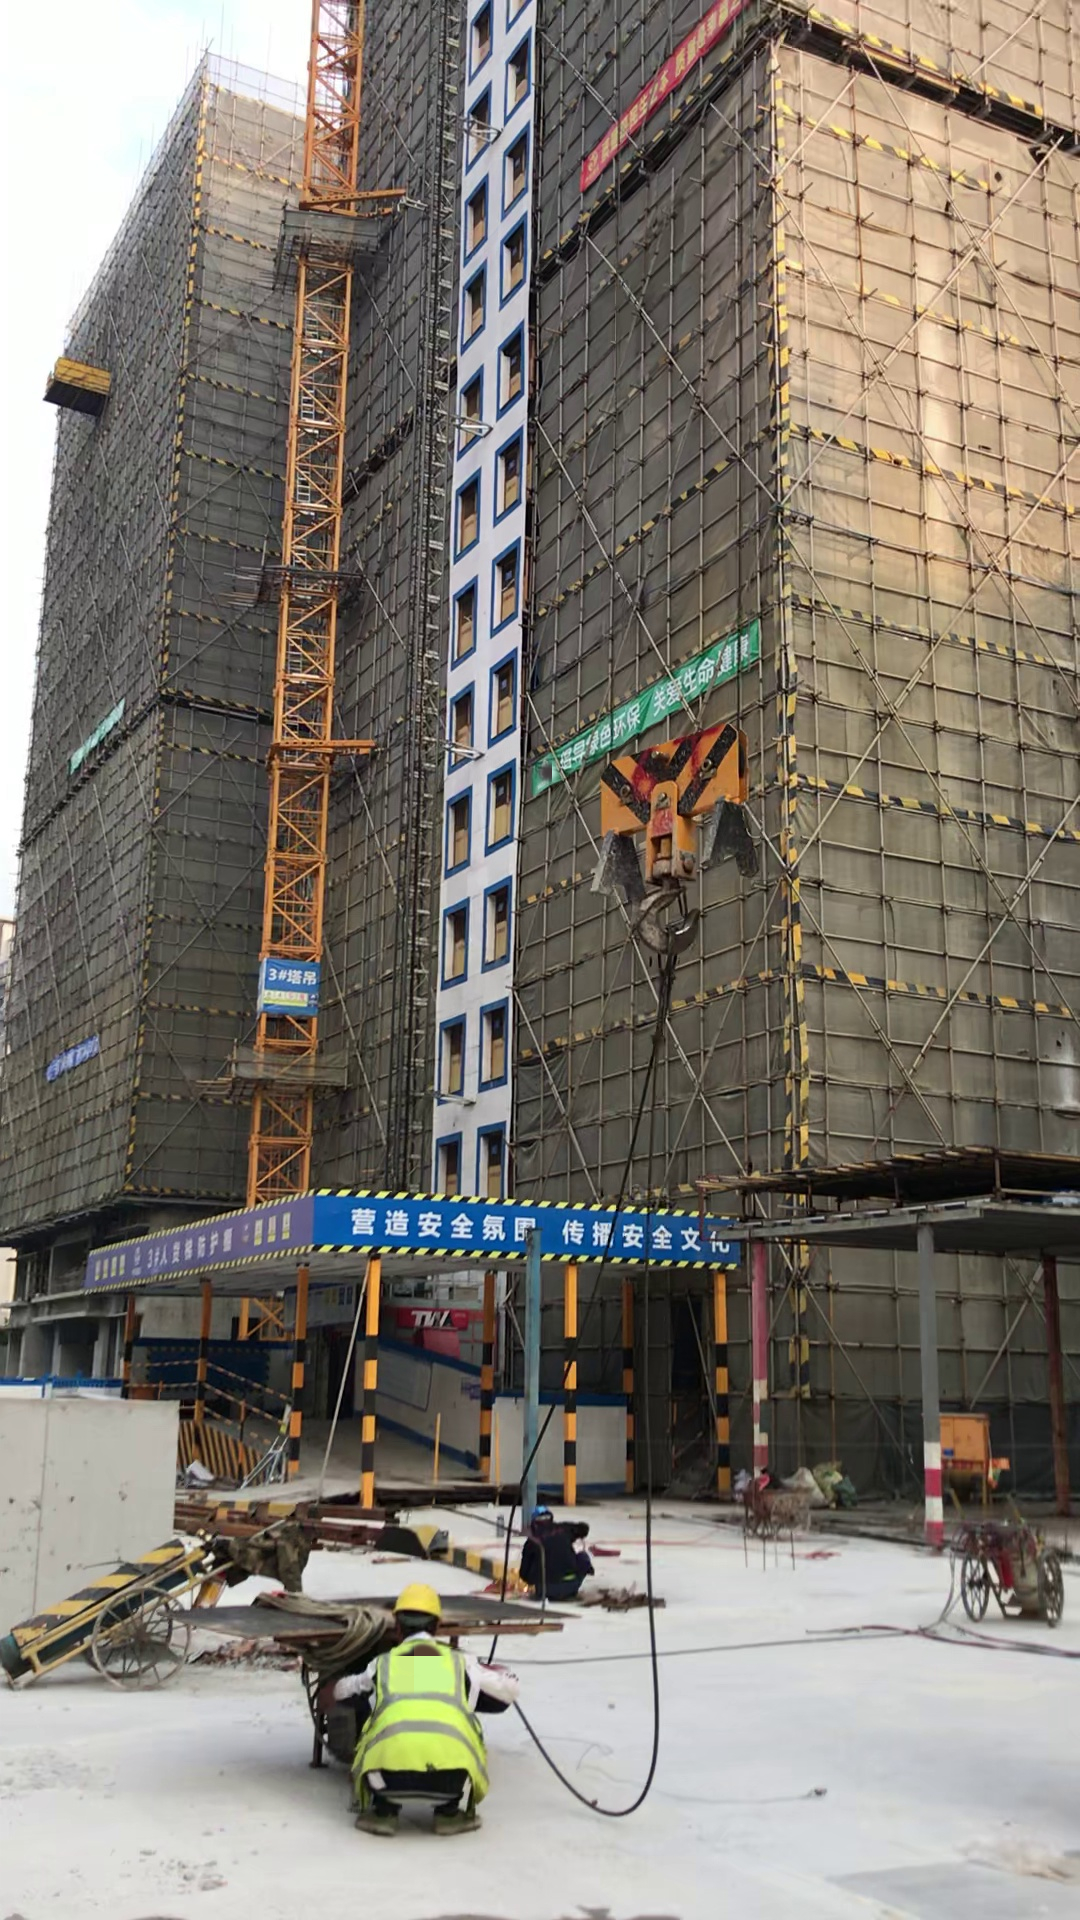ebox: (937, 1414, 990, 1474)
handcart: (705, 1484, 808, 1541)
helmet: (393, 1582, 452, 1618), (534, 1506, 555, 1523)
hook: (582, 728, 791, 945)
person: (329, 1581, 520, 1848), (513, 1499, 619, 1610)
slogan: (320, 1183, 728, 1258), (582, 2, 747, 177), (90, 1200, 319, 1293), (71, 706, 124, 769), (48, 1041, 105, 1078)
vest: (360, 1649, 486, 1782)
